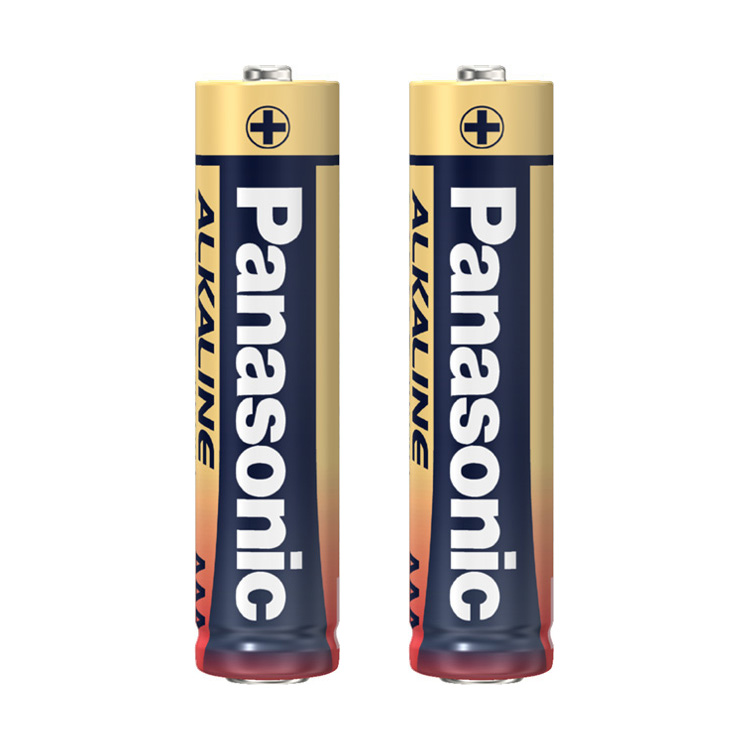Battery: (401, 55, 564, 692), (185, 55, 348, 692)
